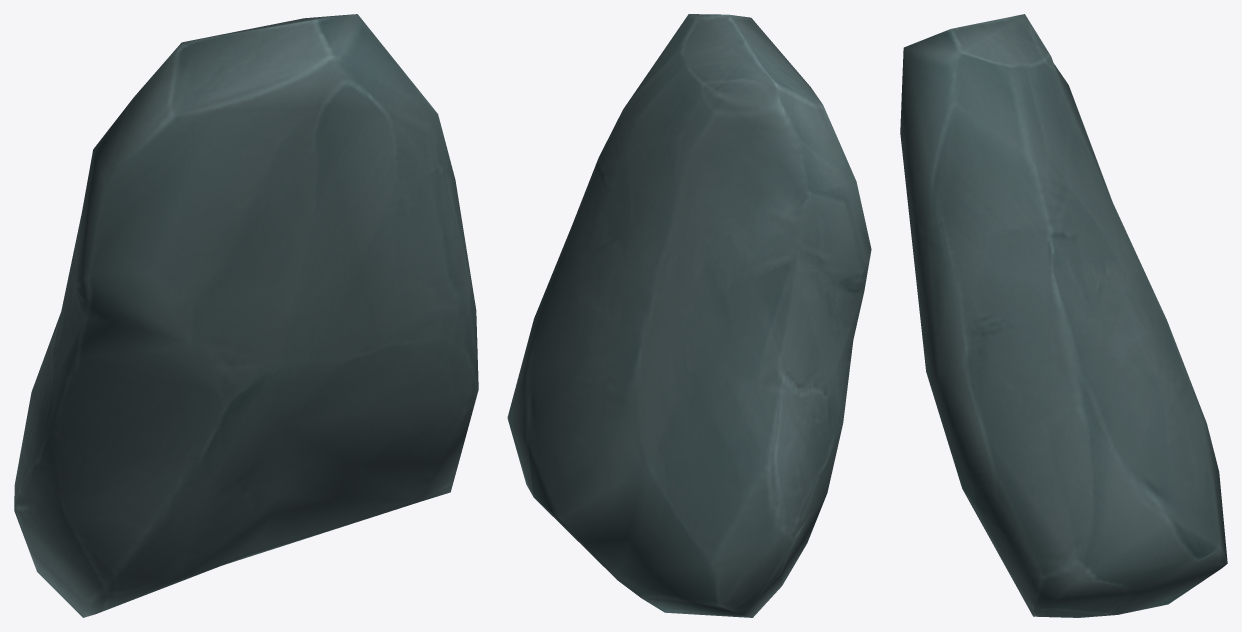
Rendered from rock3.fbx.
3 views of the same model, side by side, from view 1: azimuth 30°, elevation 25°; view 2: azimuth 150°, elevation 25°; view 3: azimuth 270°, elevation 25° (orthographic). The views are drawn at different scales.
Visible parts, largest first — view 1: polySurface2147; view 2: polySurface2147; view 3: polySurface2147.
Boxes of the visible parts, x1,y1,x2,y2 form: polySurface2147: (14, 14, 478, 617); polySurface2147: (507, 14, 871, 617); polySurface2147: (900, 14, 1227, 617).
Size of the model in its own units: 1.1 by 1.66 by 0.8314.
